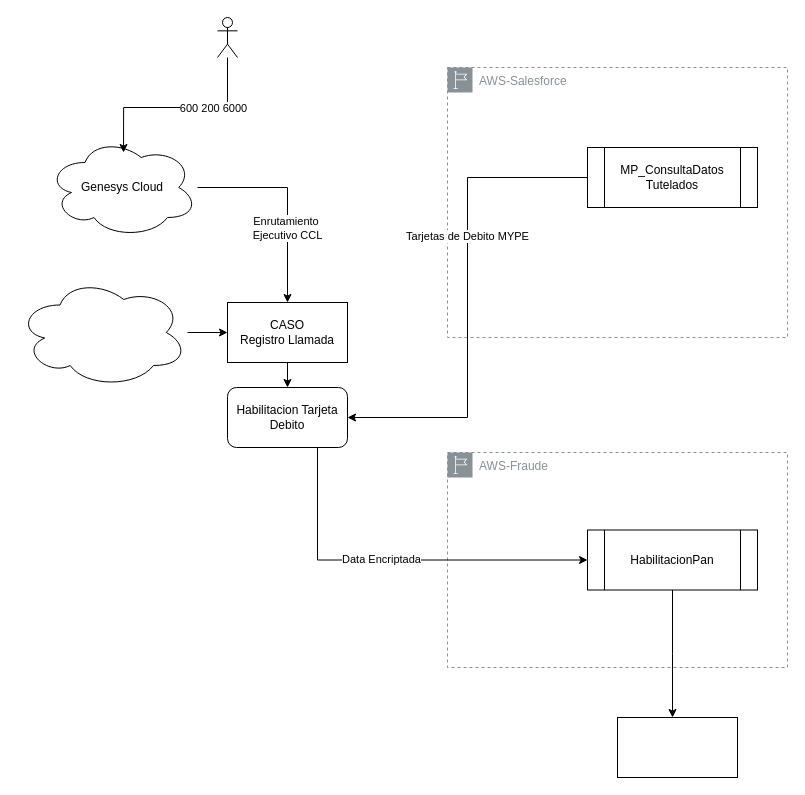
Some shapes in this 805 by 795 pixel diagram are drawn without their labels. The box of each missing label's shape, as (x1, y1, x2, y2) in pixels:
Cliente MYPE/MiPYME: (216, 16, 238, 58)
Salesforce: (16, 276, 188, 388)
VISA: (616, 716, 738, 778)
